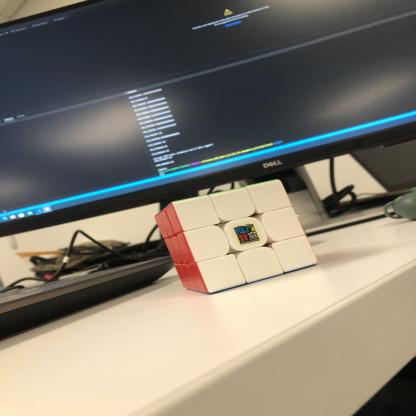SolvedCube: (150, 178, 311, 294)
